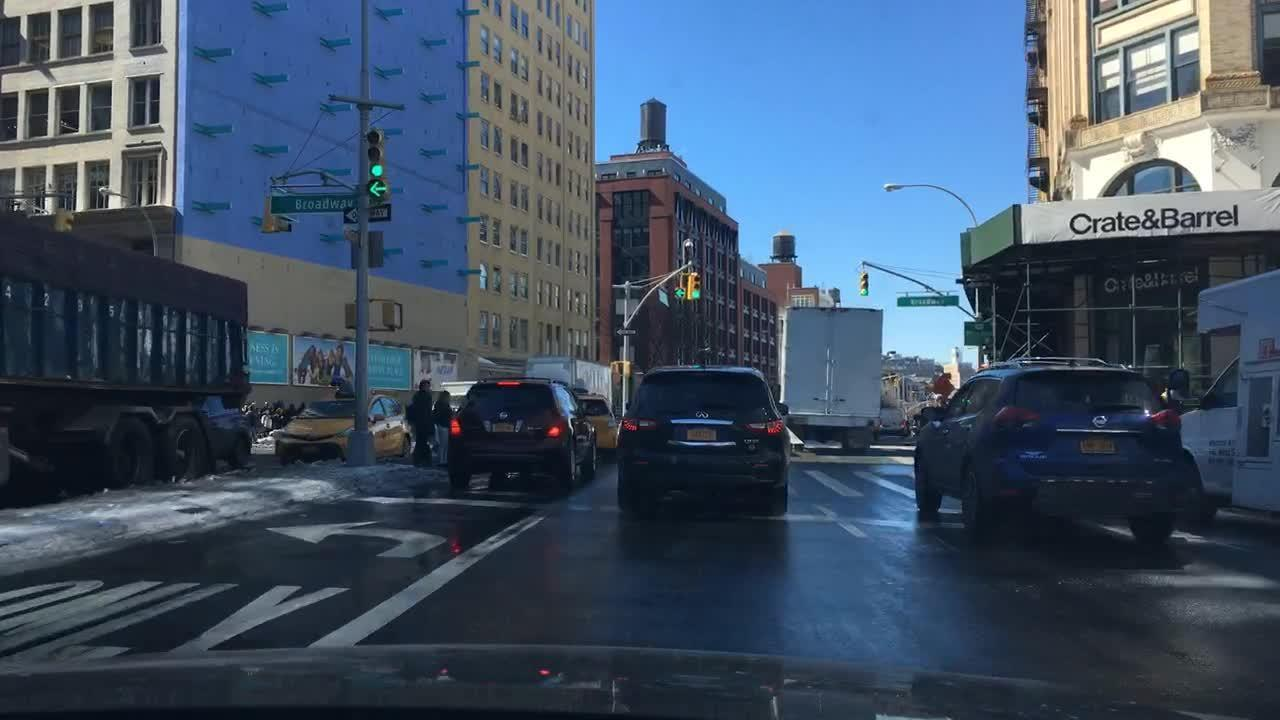Infiniti: (693, 408, 713, 419)
